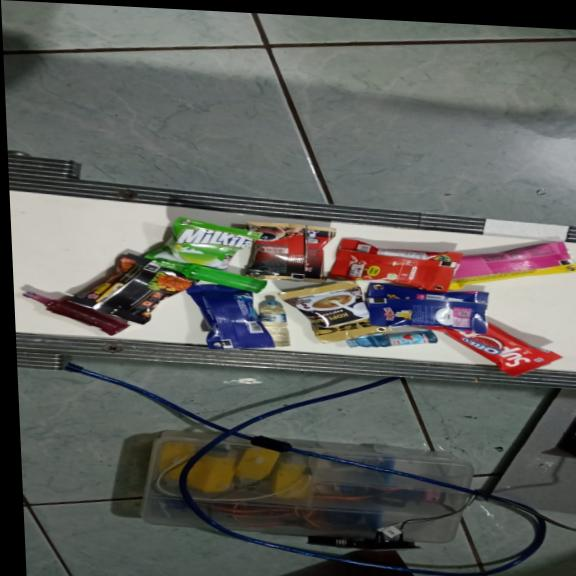Plastik: (66, 250, 201, 329), (419, 315, 561, 379), (440, 236, 576, 297), (278, 276, 393, 348), (326, 238, 464, 293), (140, 215, 265, 275), (364, 282, 490, 334), (185, 282, 274, 353), (241, 222, 337, 284), (21, 291, 130, 337), (158, 261, 268, 294), (345, 326, 438, 353), (259, 301, 289, 348)
